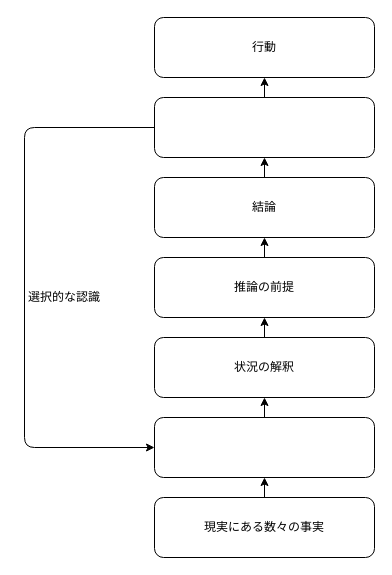
The diagram is 392 pixels wide and 575 high, and some of its shapes have lost their labels. Each missing label, with the box of its shape:
信念・世界観: (154, 96, 374, 158)
認識した状況: (154, 416, 374, 478)
